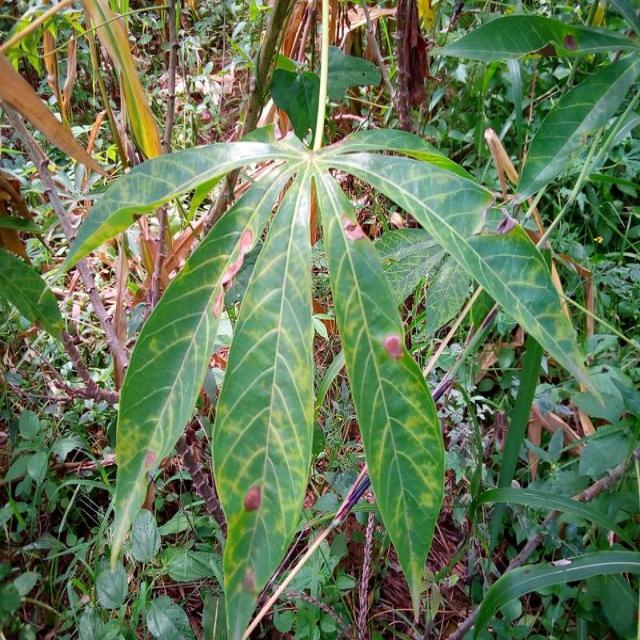cassava leaf: (59, 41, 607, 634), (109, 156, 294, 572), (314, 163, 448, 622), (212, 162, 317, 638)
